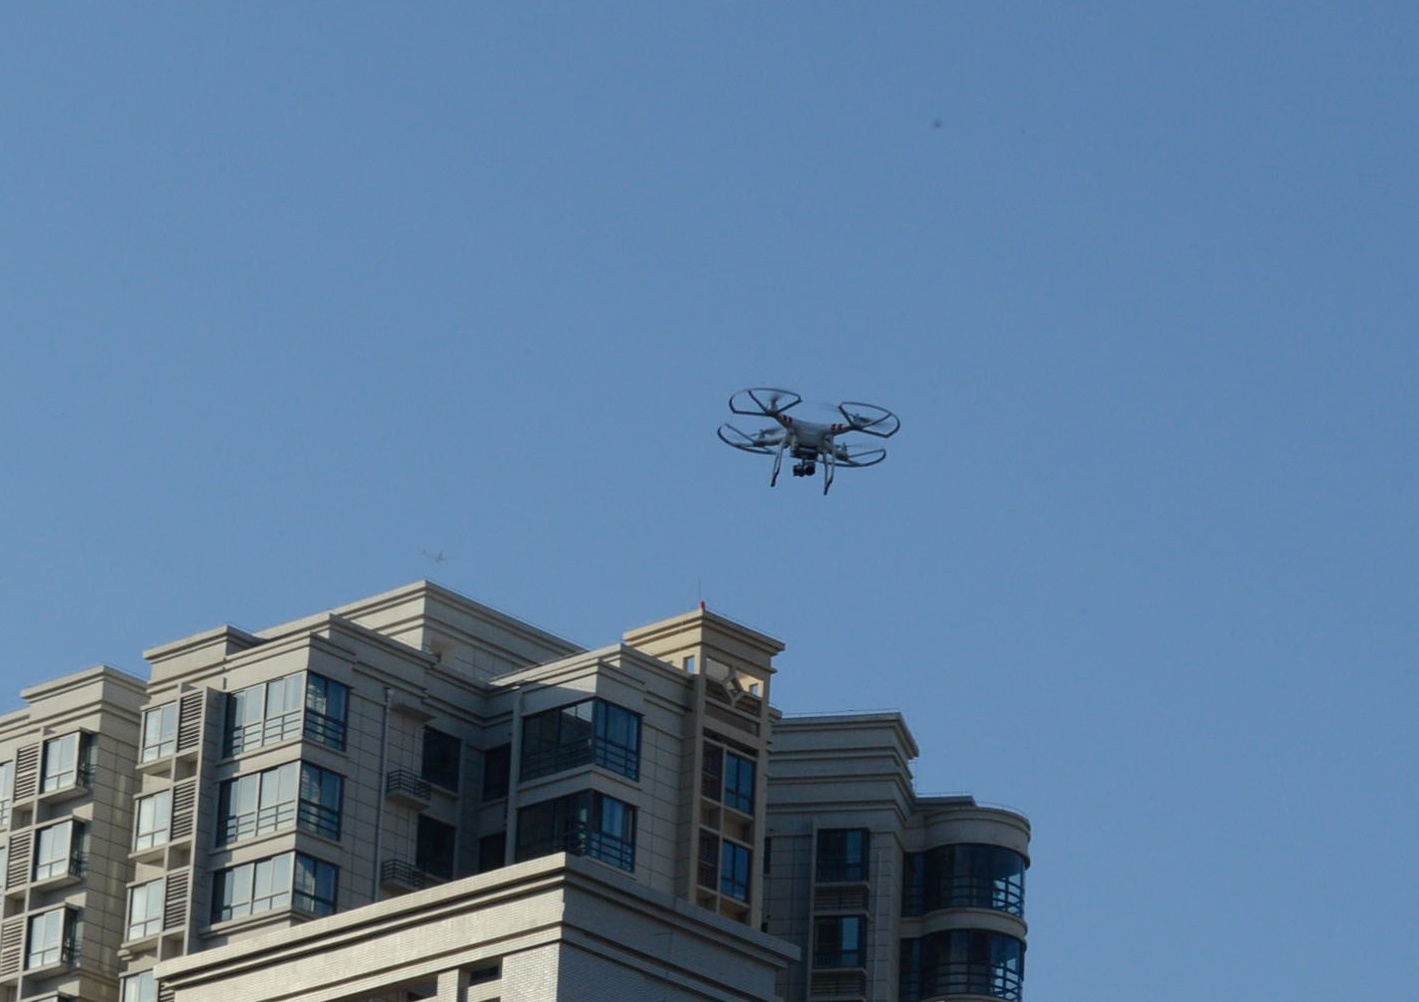DJI: (711, 381, 902, 496)
